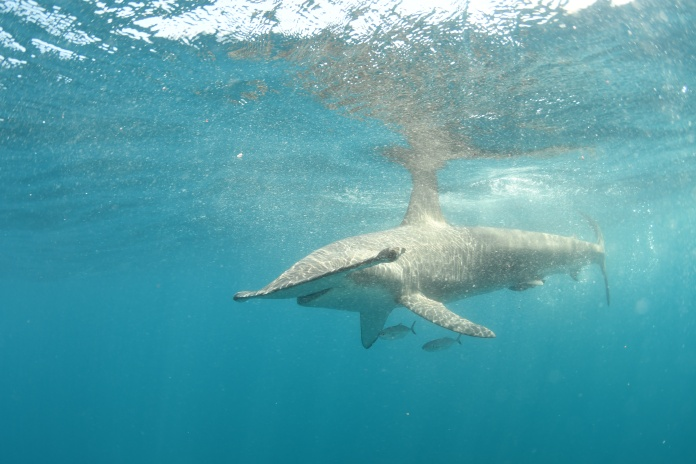Hammer: (211, 159, 641, 373)
